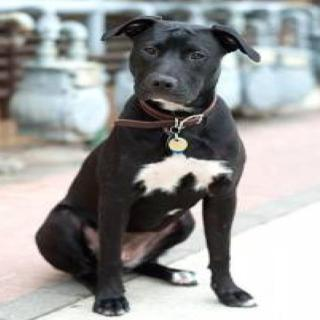dog: (103, 14, 263, 107)
nose: (148, 72, 179, 96)
